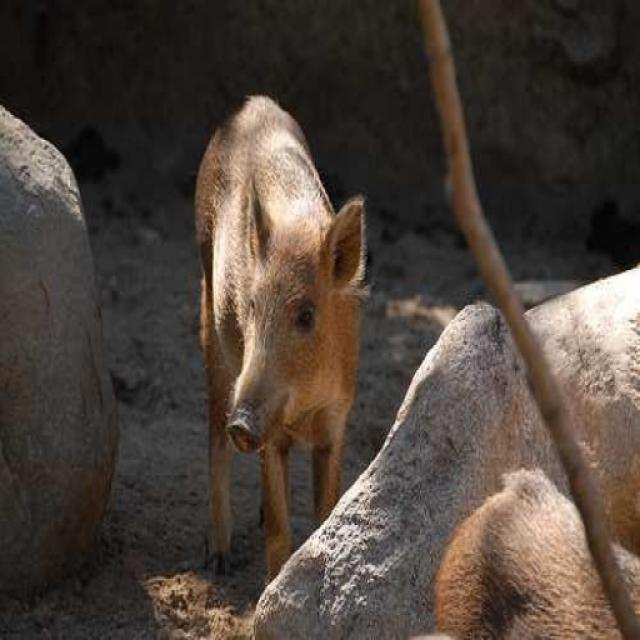pig: (143, 99, 386, 539)
